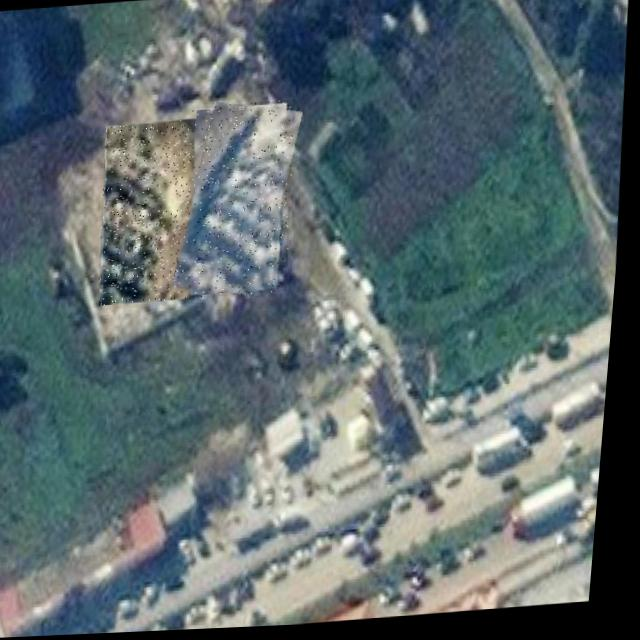Rubble: (177, 101, 303, 301), (97, 121, 206, 307)
